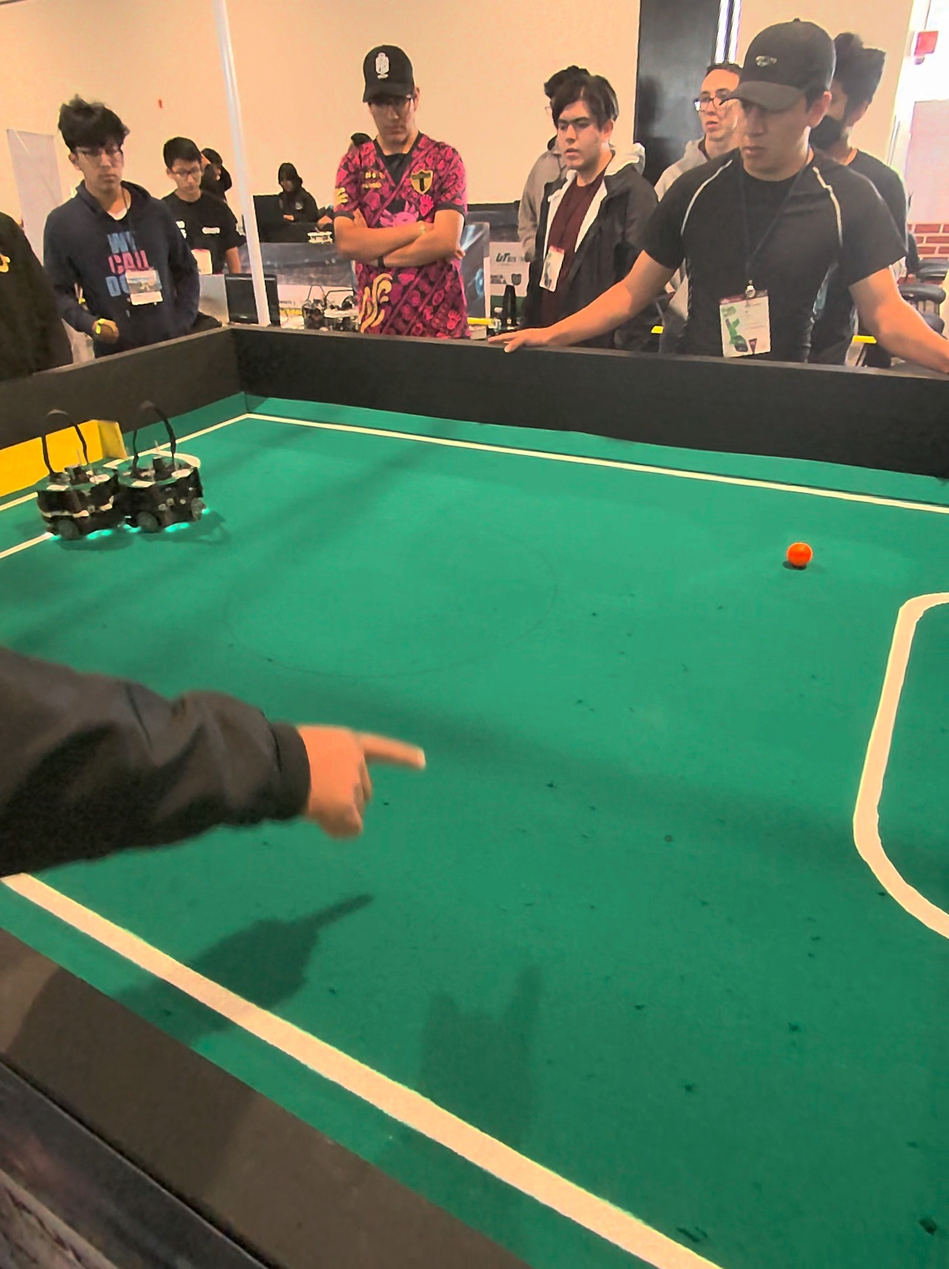Robot: (127, 410, 217, 546), (35, 412, 120, 550)
pelota: (773, 534, 824, 583)
